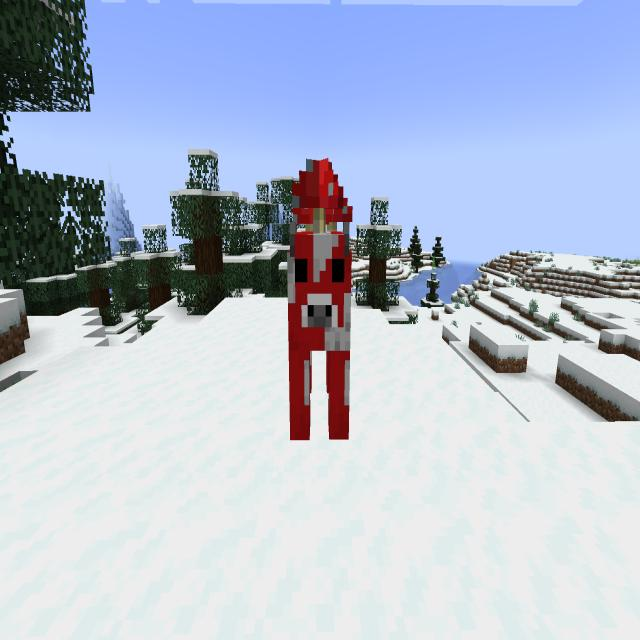Mooshroom: (274, 142, 370, 456)
